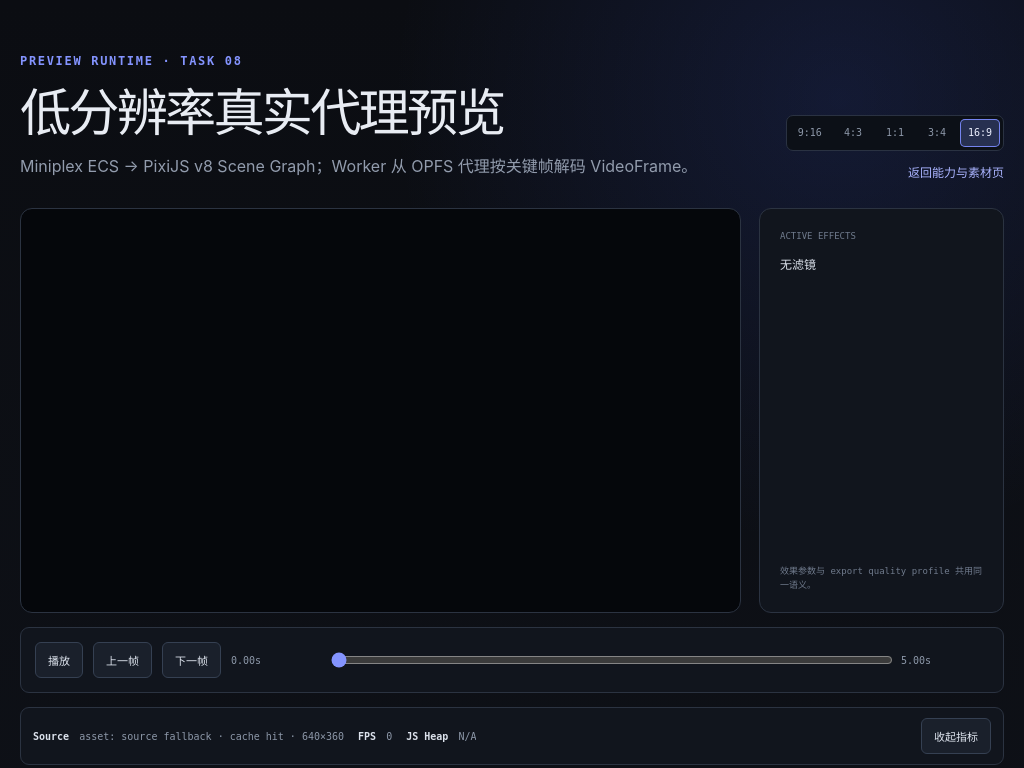
Scenario: PreviewPanel metrics disclosure › defaults to expanded metrics and collapses to a compact live summary
The image size is (1024, 768).
Expected: the button "播放" is enabled, [35,642,83,678]
Click the button with test id "preview-metrics-toggle" at {"x": 956, "y": 736}, box [921,718,991,754]
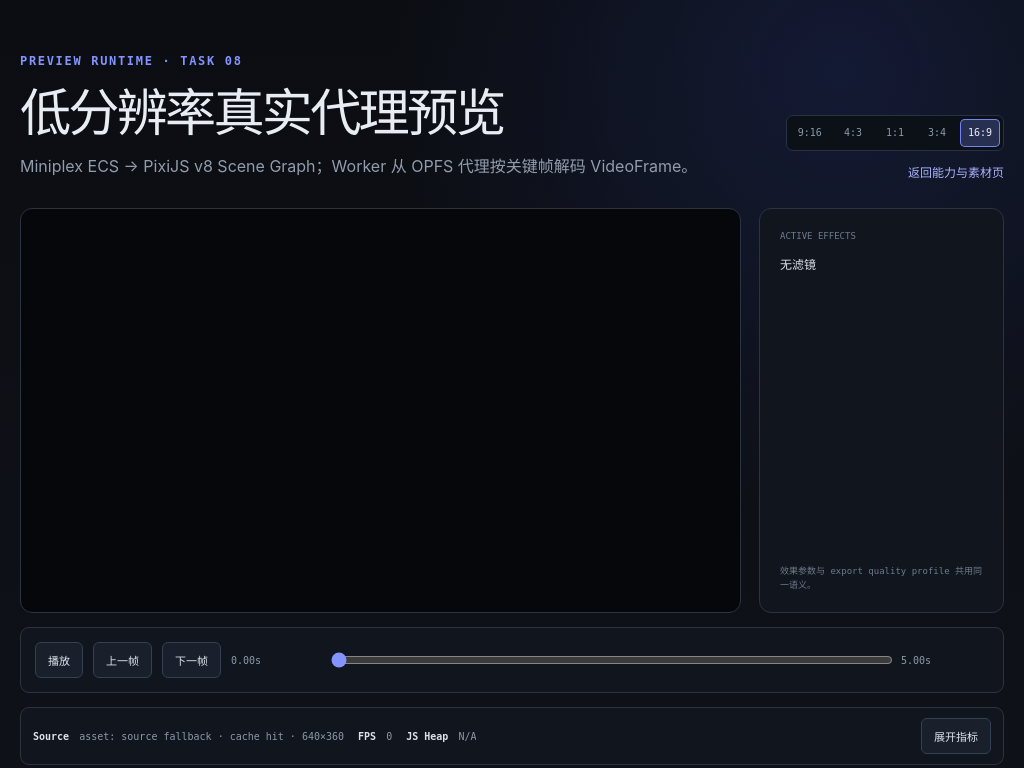
Expected: the element with test id "preview-metrics-summary" shows "Source", [33,731,69,742]
Expected: the button with test id "preview-metrics-toggle" is collapsed
Click the button with test id "preview-metrics-toggle" at {"x": 956, "y": 736}, box [921,718,991,754]
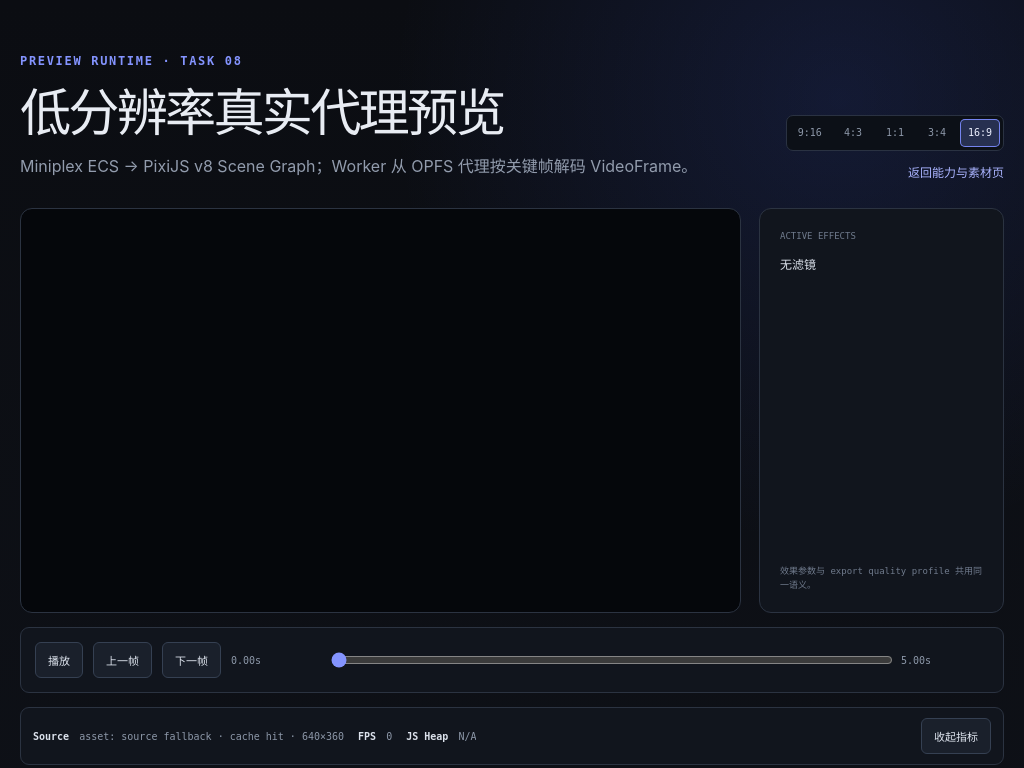
Expected: the button with test id "preview-metrics-toggle" is expanded, [921,718,991,754]
